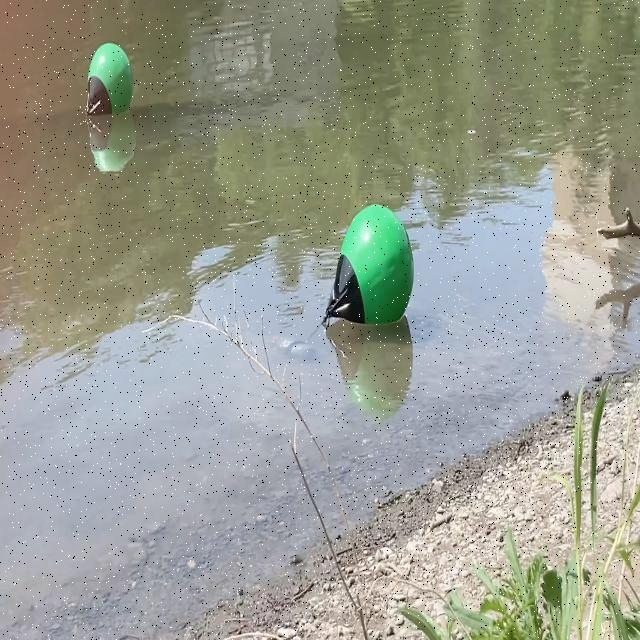buoy: (323, 201, 416, 330), (84, 40, 136, 118)
